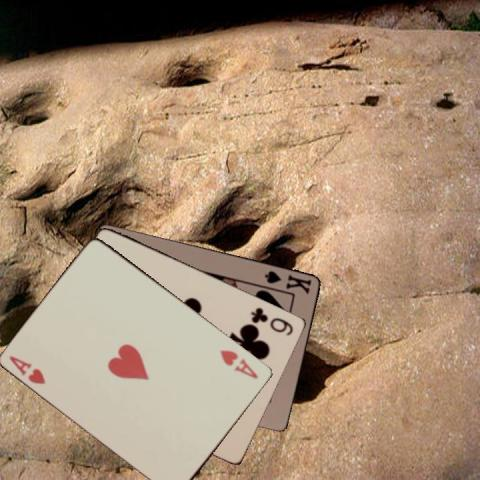6c: (248, 304, 295, 337)
Ah: (217, 346, 260, 380), (7, 353, 47, 386)
Ks: (262, 268, 313, 296)
